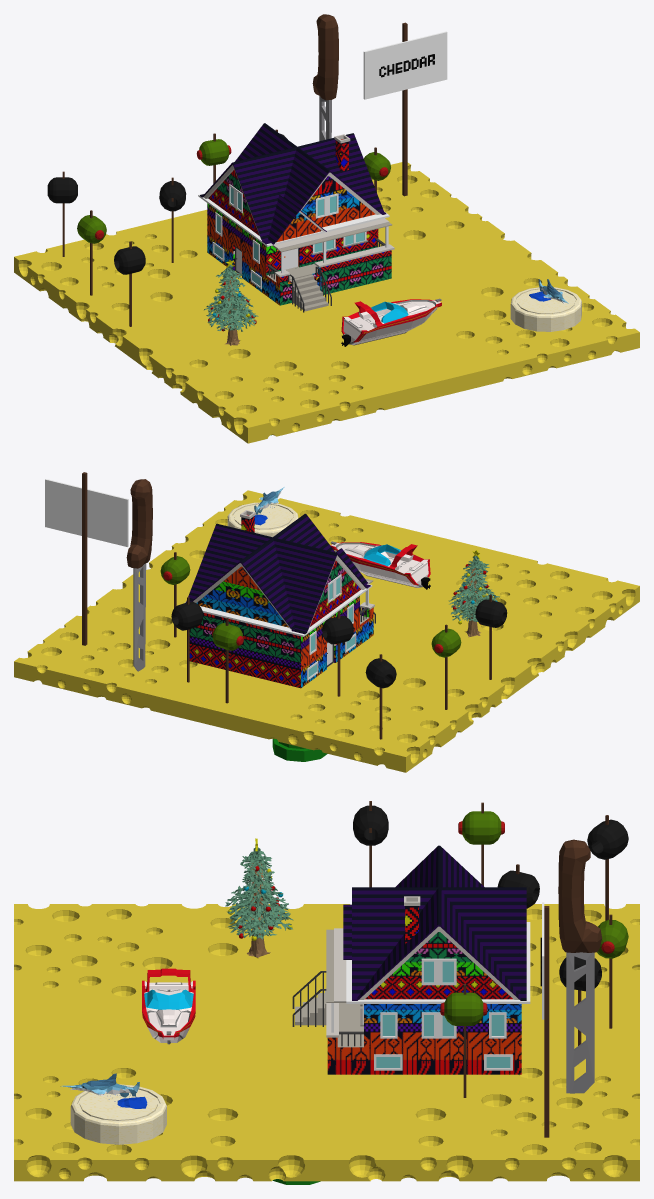
3 views of the same model, one above another, from view 1: azimuth 30°, elevation 25°; view 2: azimuth 150°, elevation 25°; view 3: azimuth 270°, elevation 25° (orthographic). The views are drawn at different scales.
Parts seen in each view (by area): view 1: Cube.022, Cube.966, Cube.023, VEHICLES_BOAT, Cylinder.016, Cube.024, OBJRANDOM_CHRISTMAS_TREE, Sphere.017, Sphere.016, Sphere.020, Sphere.018, Sphere.022 (+1 smaller); view 2: Cube.022, Cube.966, Cube.023, Cube.024, VEHICLES_BOAT, OBJRANDOM_CHRISTMAS_TREE, Cylinder.016, Sphere.020, Sphere.016, Sphere.022, Sphere.017, Sphere.021 (+4 smaller); view 3: Cube.022, Cube.966, Cube.024, Cylinder.016, OBJRANDOM_CHRISTMAS_TREE, VEHICLES_BOAT, Cube.023, Sphere.019, Sphere.016, Sphere.018, Sphere.017, Sphere.022 (+3 smaller).
Part boxes in pixels (x1=…): Cube.022: x1=14, y1=162, x2=639, y2=443; Cube.966: x1=198, y1=123, x2=394, y2=312; Cube.023: x1=363, y1=22, x2=447, y2=196; VEHICLES_BOAT: x1=341, y1=298, x2=441, y2=346; Cylinder.016: x1=510, y1=287, x2=581, y2=331; Cube.024: x1=312, y1=14, x2=338, y2=141; OBJRANDOM_CHRISTMAS_TREE: x1=204, y1=259, x2=258, y2=345; Sphere.017: x1=114, y1=241, x2=145, y2=326; Sphere.016: x1=47, y1=171, x2=77, y2=256; Sphere.020: x1=159, y1=177, x2=186, y2=262; Sphere.018: x1=77, y1=210, x2=106, y2=295; Sphere.022: x1=196, y1=133, x2=231, y2=183; Cube.022: x1=14, y1=490, x2=639, y2=772; Cube.966: x1=185, y1=510, x2=375, y2=688; Cube.023: x1=45, y1=472, x2=128, y2=645; Cube.024: x1=126, y1=479, x2=152, y2=671; VEHICLES_BOAT: x1=330, y1=541, x2=430, y2=589; OBJRANDOM_CHRISTMAS_TREE: x1=448, y1=550, x2=499, y2=637; Cylinder.016: x1=227, y1=502, x2=298, y2=537; Sphere.020: x1=322, y1=611, x2=353, y2=696; Sphere.016: x1=365, y1=654, x2=396, y2=739; Sphere.022: x1=212, y1=618, x2=243, y2=703; Sphere.017: x1=475, y1=594, x2=507, y2=679; Sphere.021: x1=171, y1=597, x2=203, y2=682; Cube.022: x1=14, y1=904, x2=639, y2=1181; Cube.966: x1=292, y1=845, x2=530, y2=1074; Cube.024: x1=558, y1=839, x2=602, y2=1093; Cylinder.016: x1=70, y1=1084, x2=166, y2=1144; OBJRANDOM_CHRISTMAS_TREE: x1=225, y1=838, x2=293, y2=958; VEHICLES_BOAT: x1=142, y1=968, x2=195, y2=1044; Cube.023: x1=540, y1=902, x2=549, y2=1137; Sphere.019: x1=440, y1=984, x2=487, y2=1097; Sphere.016: x1=587, y1=815, x2=628, y2=920; Sphere.018: x1=458, y1=802, x2=504, y2=885; Sphere.017: x1=353, y1=801, x2=388, y2=887; Sphere.022: x1=597, y1=914, x2=628, y2=1028.
Size of the model in its own units: 3917 by 2590 by 4000.
40 materials, 7 textured.
